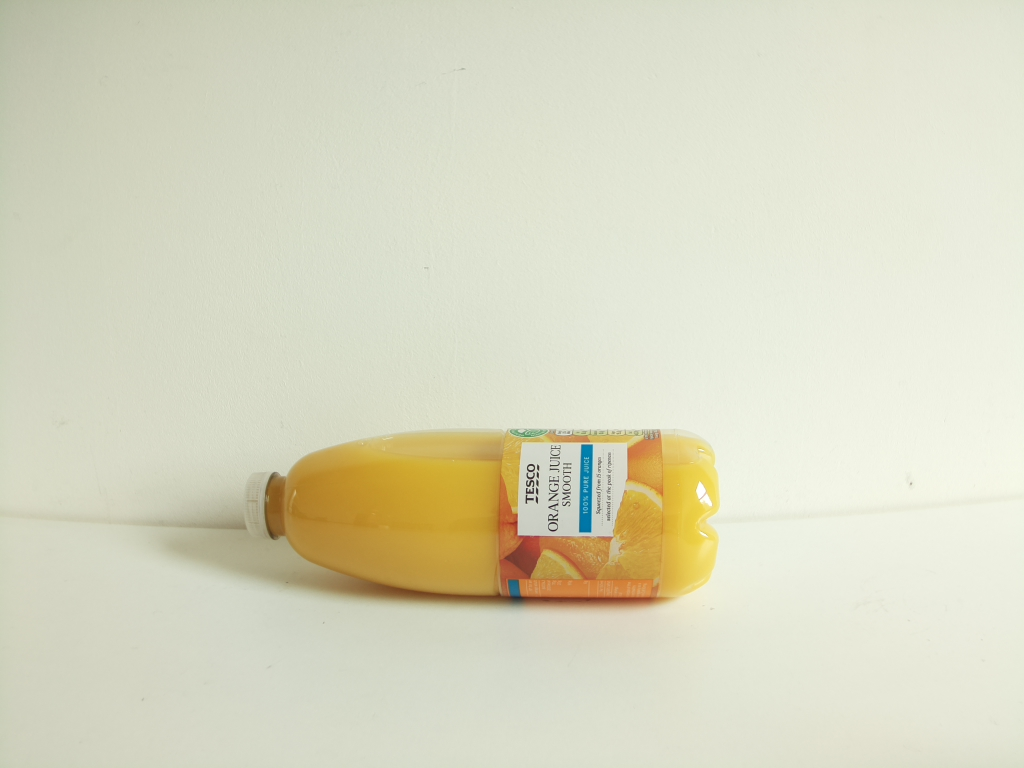juice: (242, 419, 726, 610)
